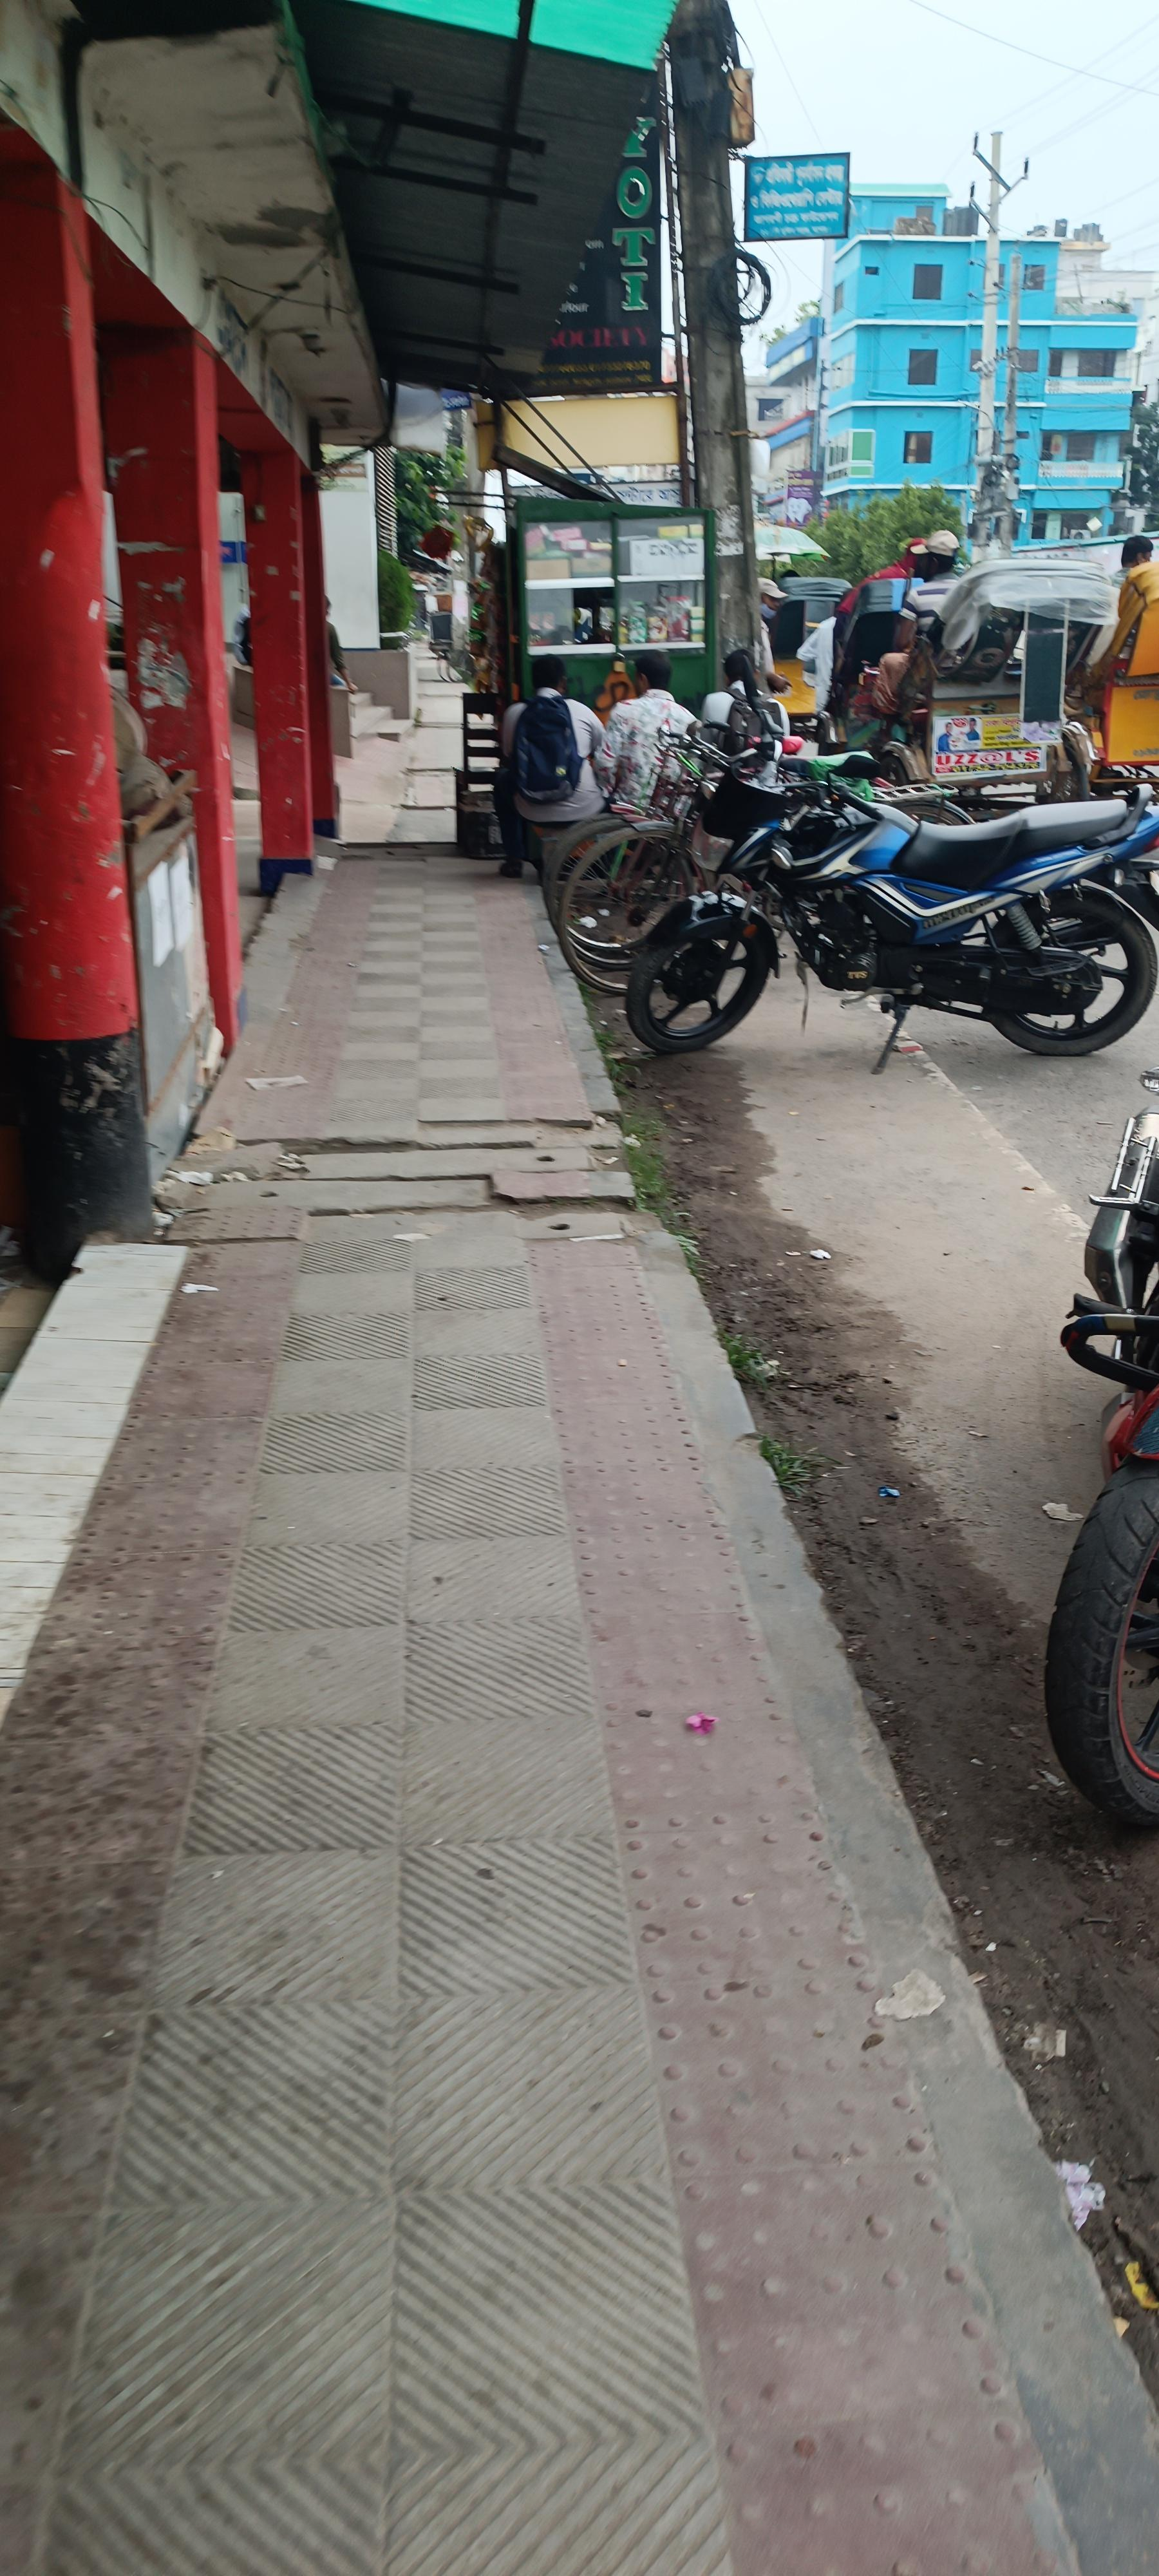Fallen-tree: (625, 683, 1157, 1073), (1042, 1068, 1157, 1827)
Garbage-bin: (497, 655, 612, 882)
Pothole: (7, 820, 1154, 2568)
